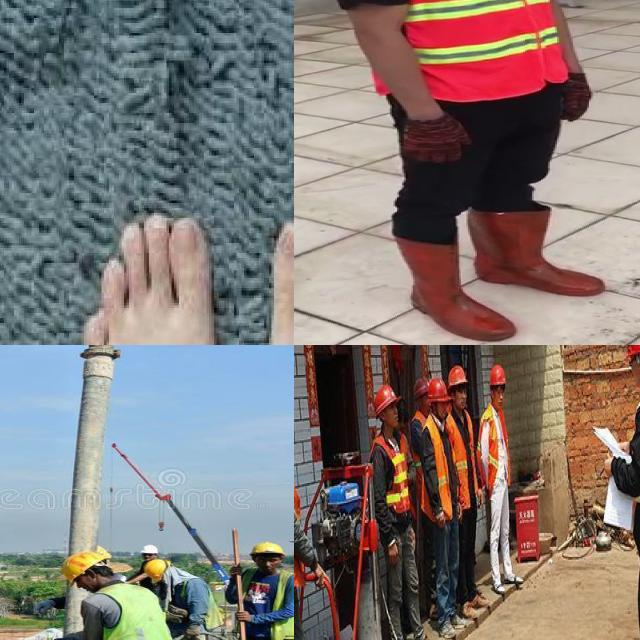Barefoots: (65, 152, 229, 345)
boots: (390, 234, 516, 341), (466, 209, 608, 296)
hand_glove: (401, 118, 475, 167), (564, 72, 594, 125)
hand_noglove: (602, 448, 616, 484), (383, 536, 399, 566), (615, 434, 632, 462), (436, 503, 446, 531)
head_helmet: (62, 549, 110, 581), (371, 381, 402, 412), (248, 542, 284, 560), (143, 560, 169, 582), (448, 363, 470, 388), (426, 373, 448, 398), (487, 363, 507, 388), (410, 375, 428, 395), (142, 545, 162, 554)
person: (294, 0, 640, 345), (25, 555, 174, 640), (371, 384, 410, 640), (424, 375, 458, 632), (478, 362, 516, 586), (450, 367, 480, 601), (229, 545, 294, 640), (145, 560, 214, 640), (622, 345, 640, 640), (408, 372, 425, 499)
shoes: (502, 568, 524, 592), (448, 611, 472, 632), (438, 616, 456, 640), (489, 578, 508, 600), (411, 634, 443, 640)
vest: (321, 0, 567, 101), (421, 414, 457, 522), (374, 426, 411, 523), (480, 403, 508, 503), (449, 409, 477, 509), (294, 457, 305, 586), (411, 406, 427, 480)
